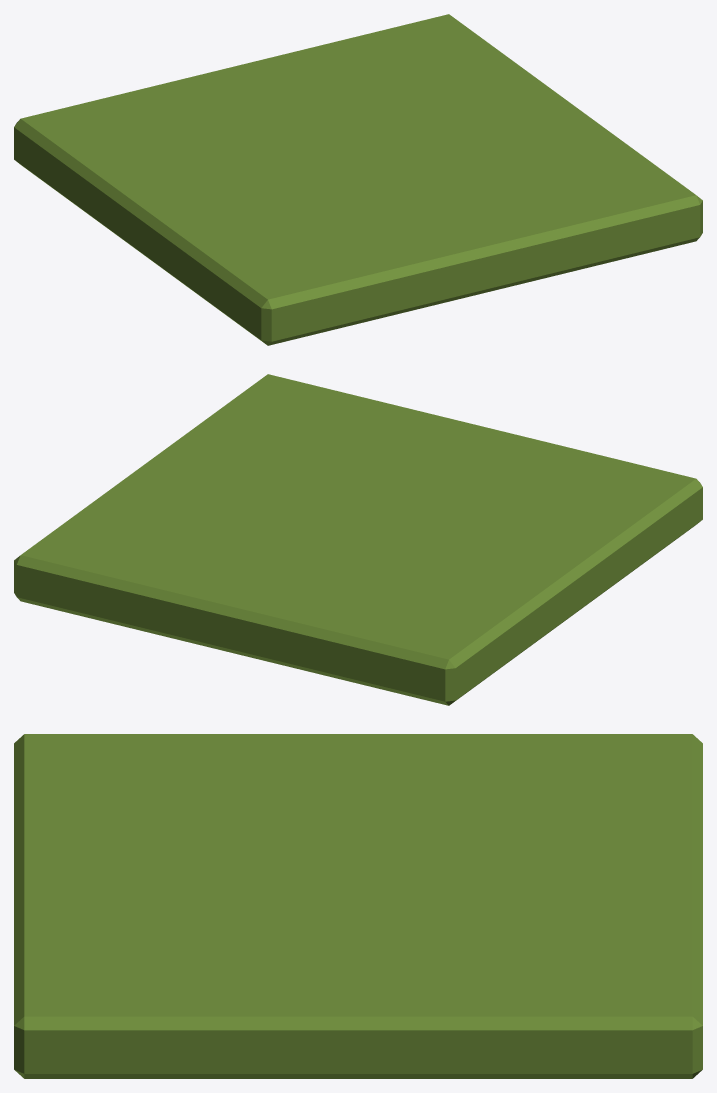
Rendered from D-CORRIDOR.w4.glb.
3 views of the same model, one above another, from view 1: azimuth 30°, elevation 25°; view 2: azimuth 150°, elevation 25°; view 3: azimuth 270°, elevation 25° (orthographic). The views are drawn at different scales.
Visible parts, largest first — view 1: pal_grass.004; view 2: pal_grass.004; view 3: pal_grass.004.
Boxes of the visible parts, x1,y1,x2,y2 form: pal_grass.004: (14, 14, 702, 345); pal_grass.004: (14, 374, 702, 705); pal_grass.004: (14, 734, 702, 1078).
Size of the model in its own units: 0.2 by 0.02 by 0.2.
